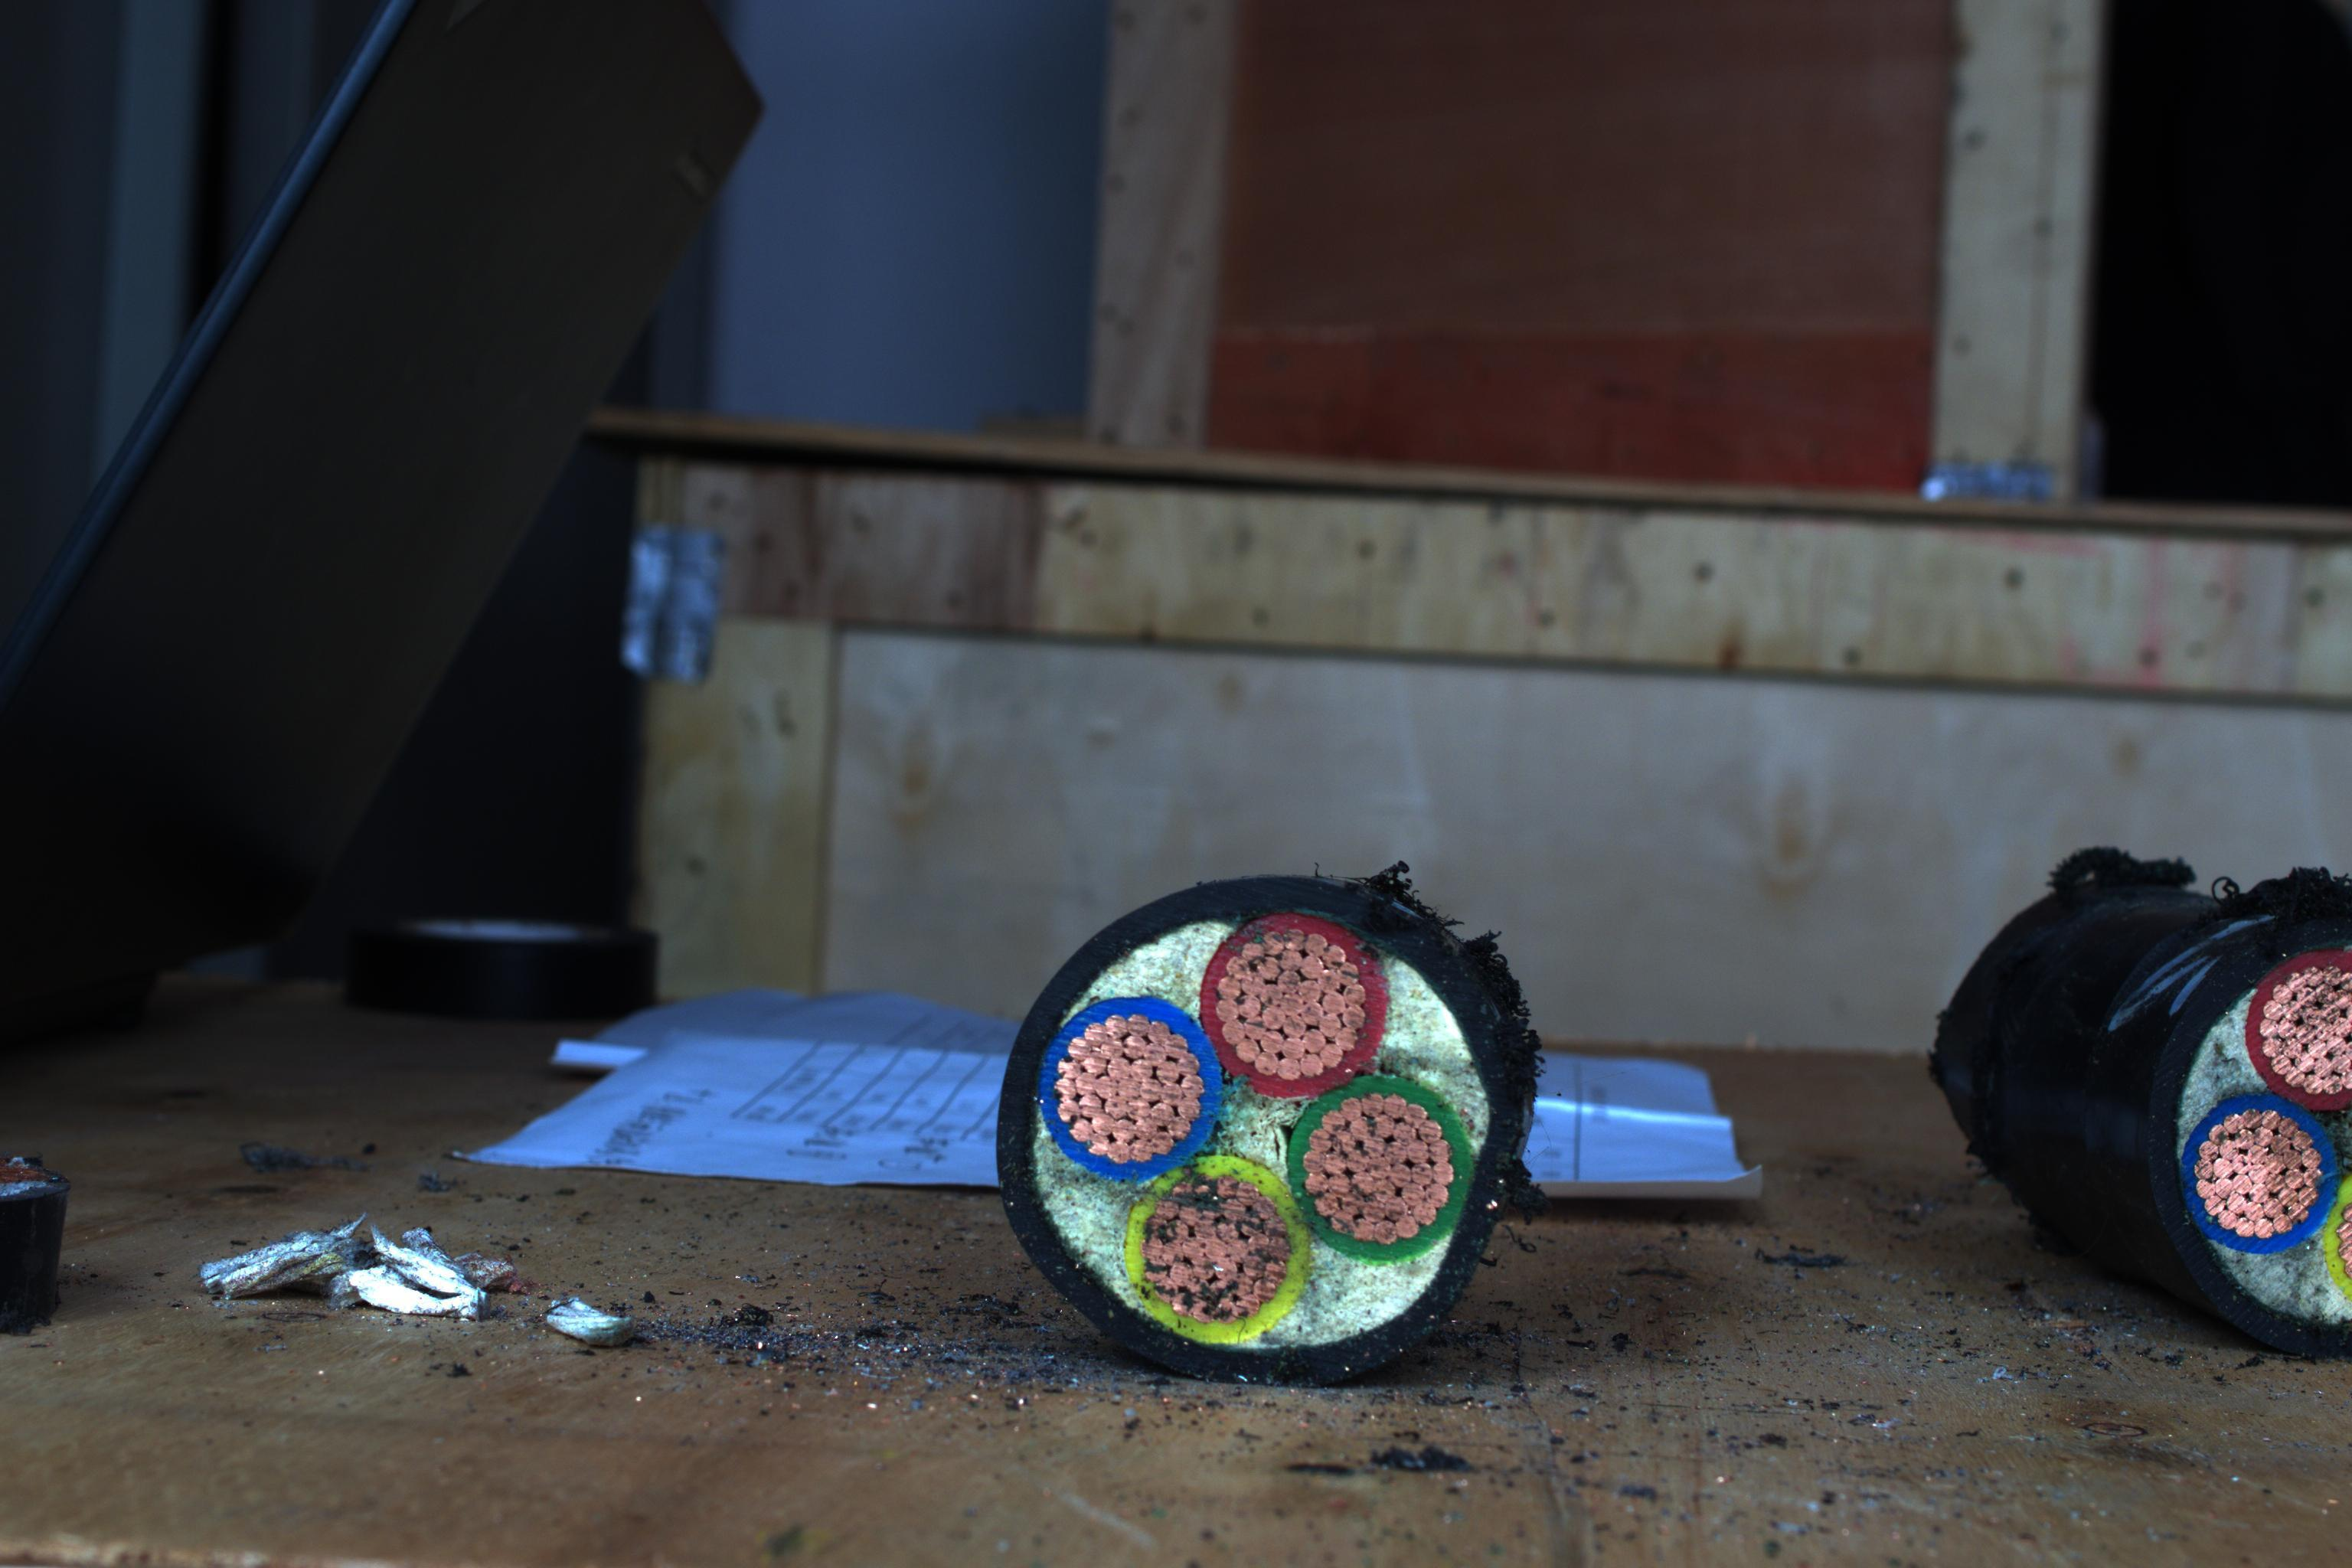YJV_0.6_1kV_4x185: (987, 870, 1545, 1375)
